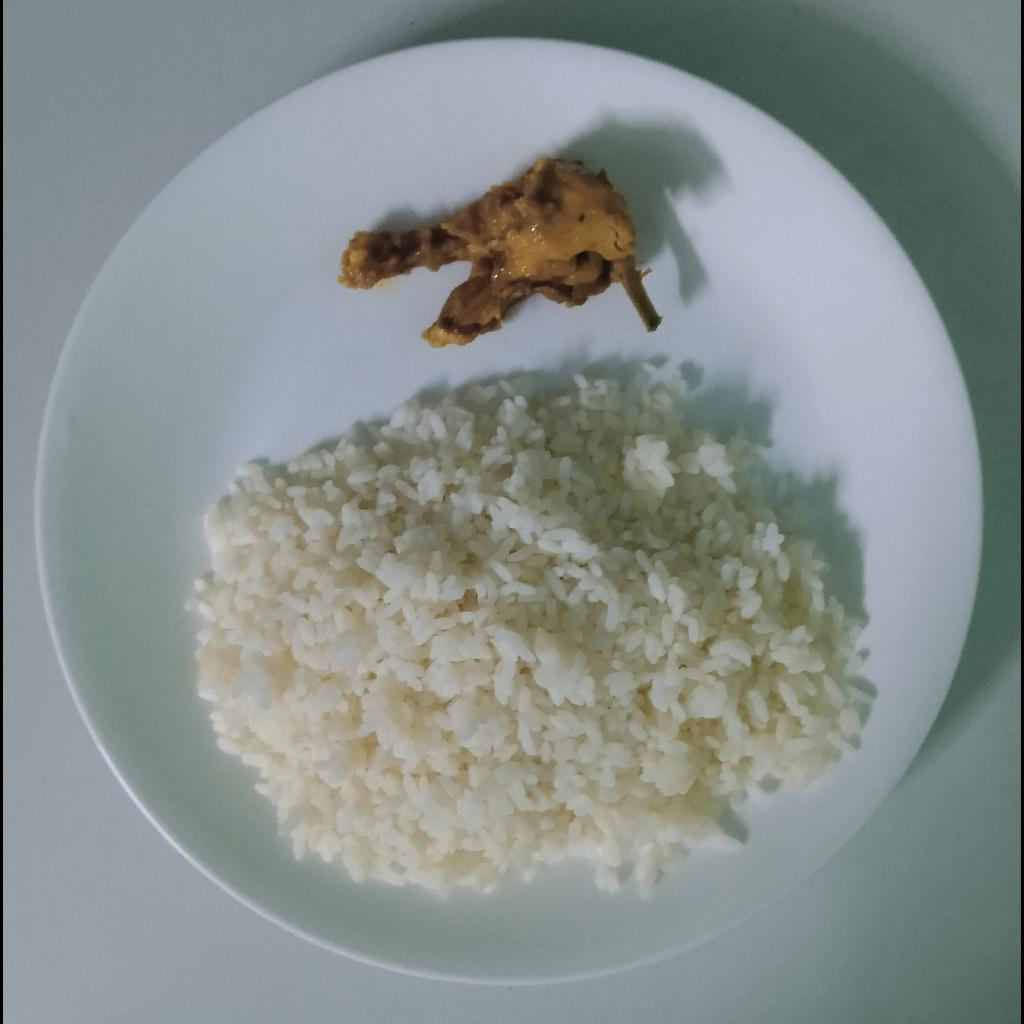chicken: (336, 158, 663, 345)
rice: (182, 365, 867, 892)
